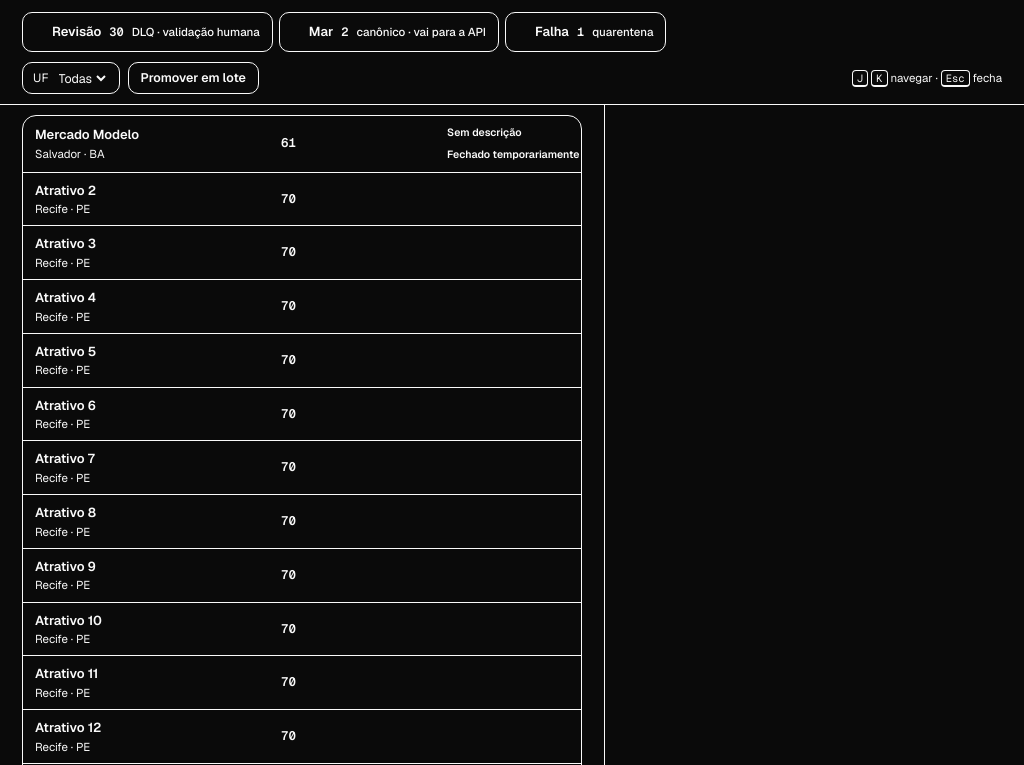
Test case: Registros — detail › a record without a masked contact phone is not marked as missing a phone
This screenshot has width=1024, height=765.
Click the text "Atrativo 2": click(66, 190) [35,182,96,198]
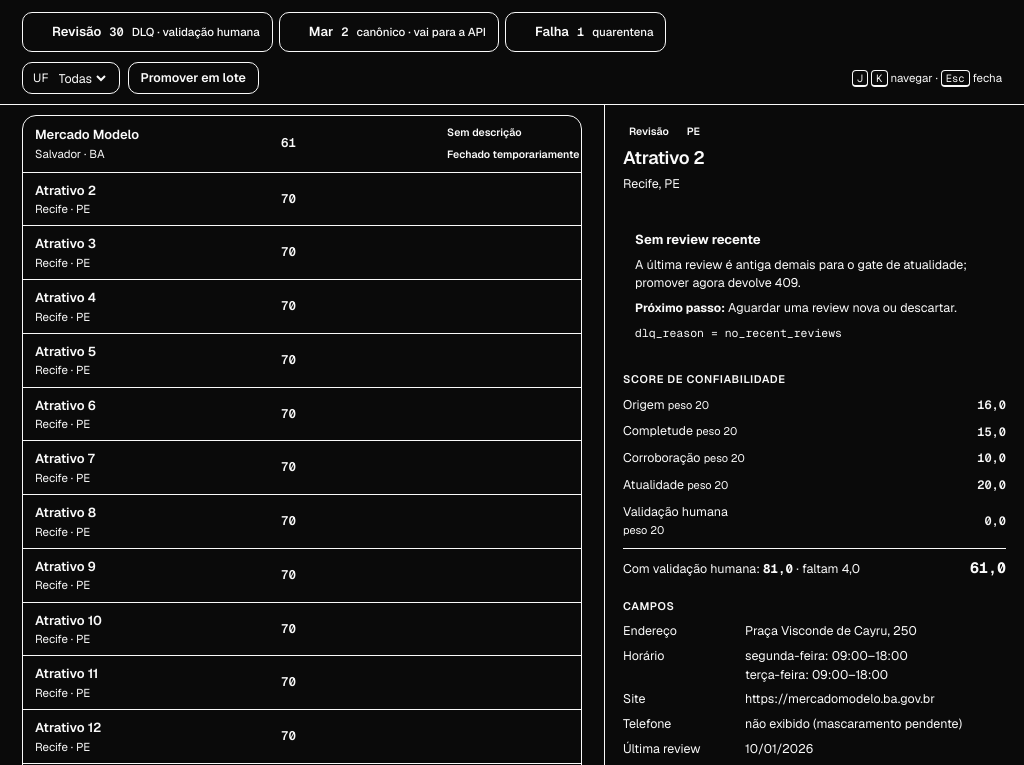
expect the text with test id "registros-field-phone" reads "não exibido (mascaramento pendente)": met, box [745,715,962,732]
